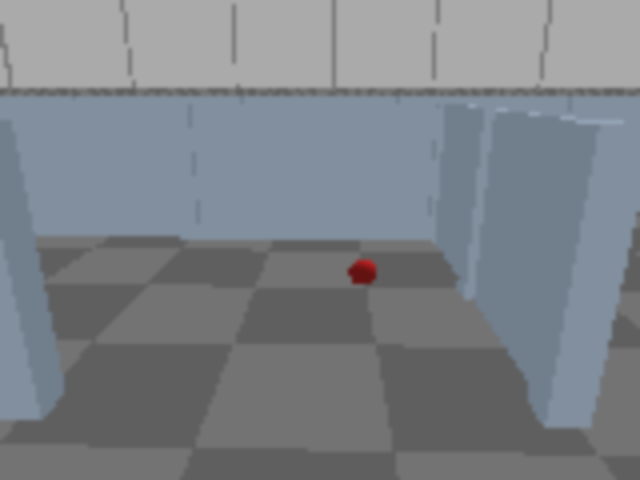puck: (344, 254, 382, 292)
